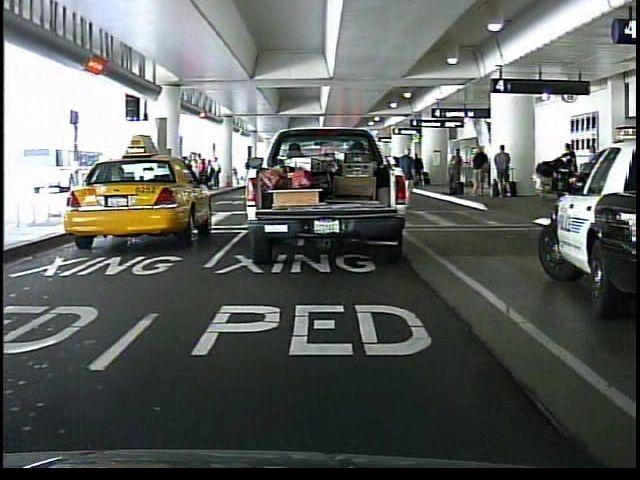person: (341, 140, 374, 219), (395, 143, 421, 212), (558, 138, 581, 200)
